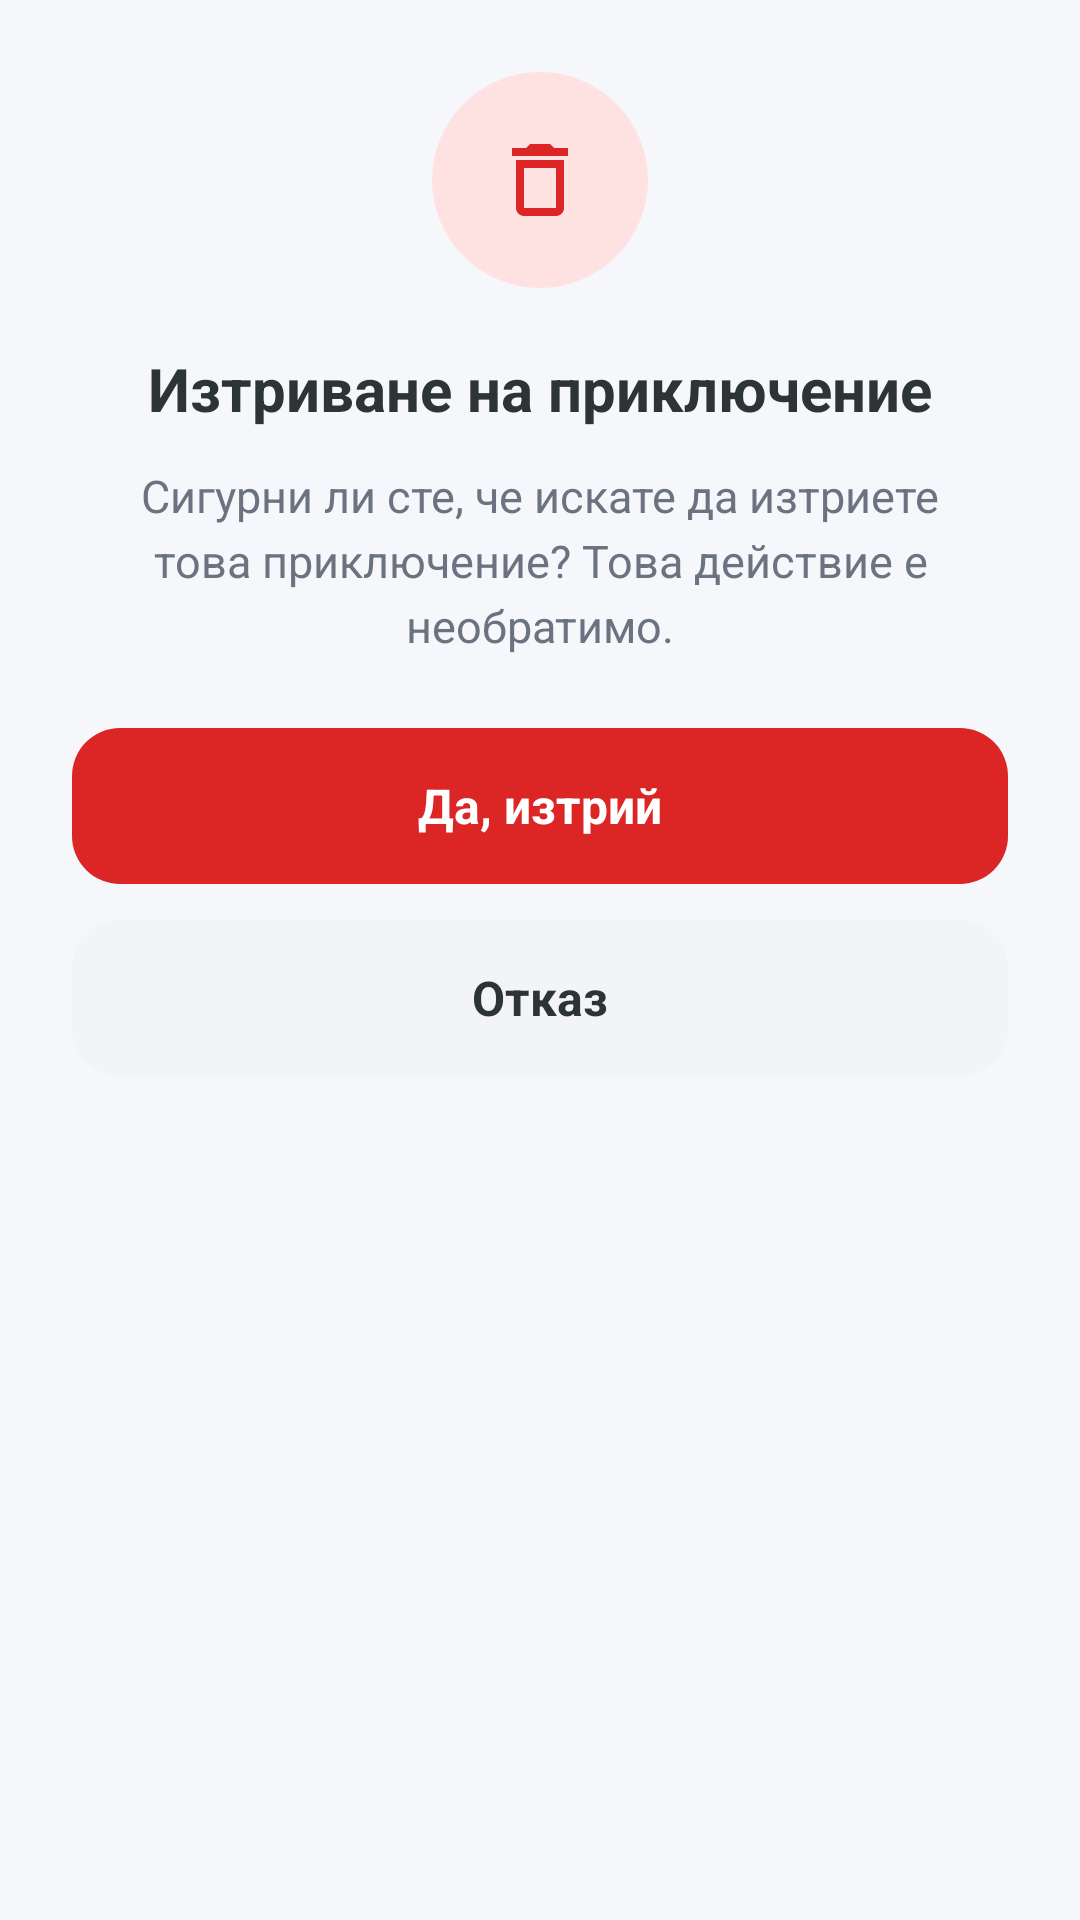

Icon click points for this 1080 × 1920 phone screenshot, format (x,y):
delete: (540,180)
